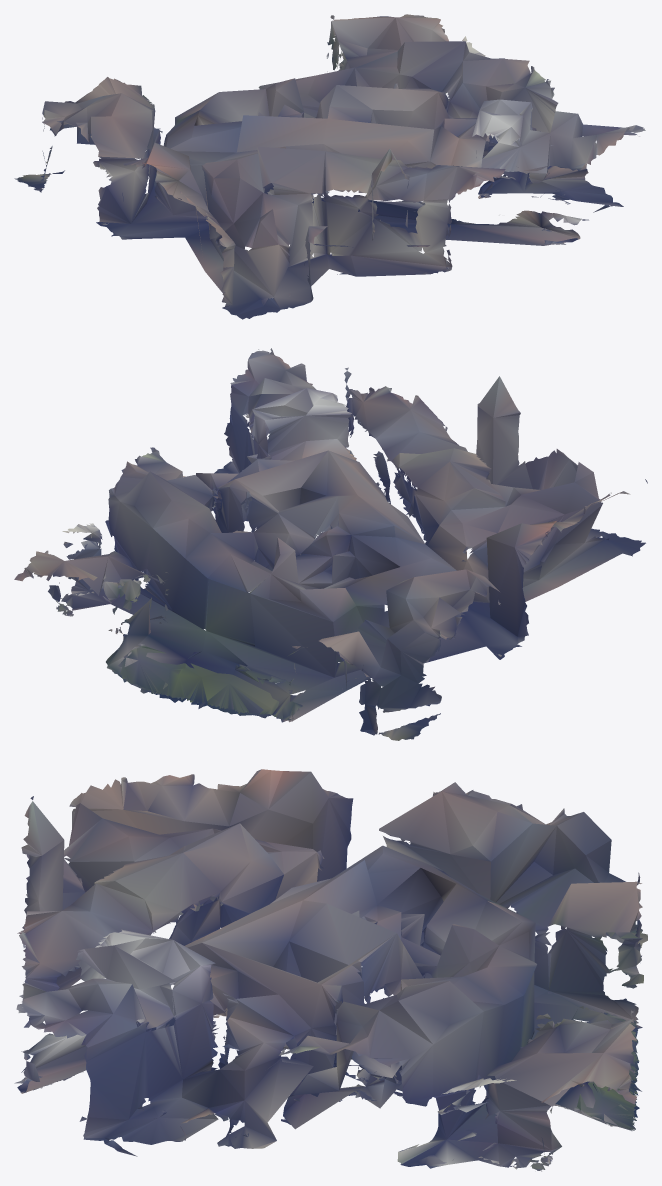
3 views of the same model, one above another, from view 1: azimuth 30°, elevation 25°; view 2: azimuth 150°, elevation 25°; view 3: azimuth 270°, elevation 25° (orthographic). The views are drawn at different scales.
Size of the model in its own units: 104 by 44.51 by 105.
